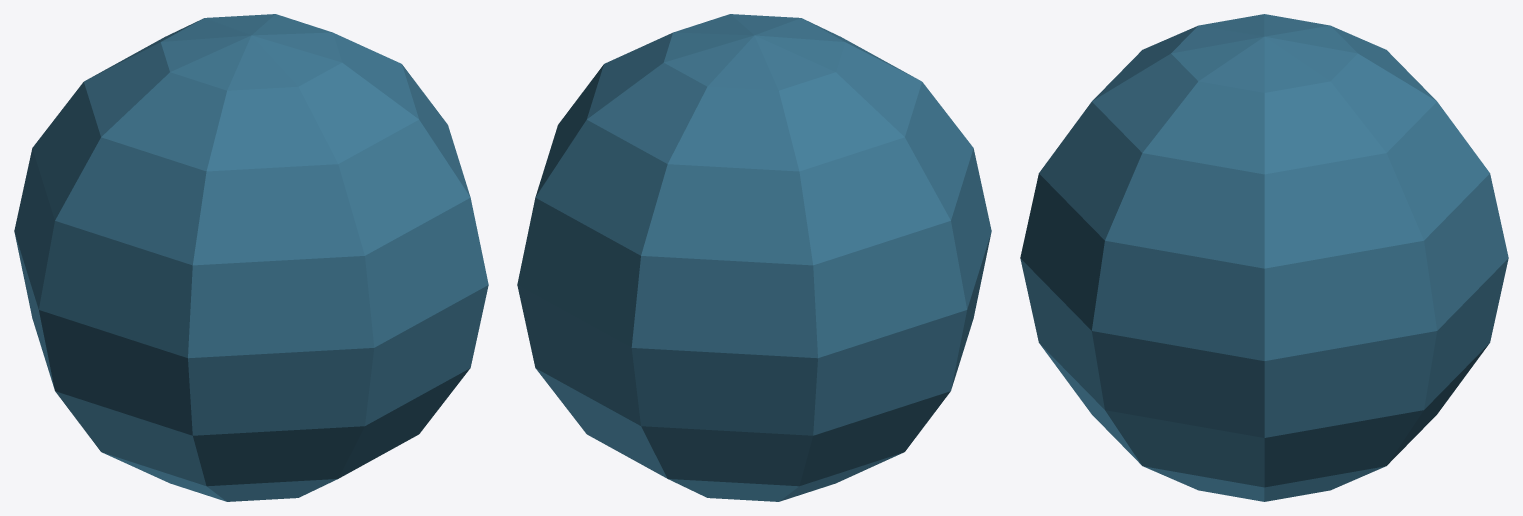
File: GearOrbGlass.glb
3 renders of one model, left to right at view 1: azimuth 30°, elevation 25°; view 2: azimuth 150°, elevation 25°; view 3: azimuth 270°, elevation 25°, orthographic.
Visible parts, largest first — view 1: CryoOrbGear.001; view 2: CryoOrbGear.001; view 3: CryoOrbGear.001.
Part boxes in pixels (left/top/right/bottom): CryoOrbGear.001: left=14, top=14, right=488, bottom=501; CryoOrbGear.001: left=517, top=14, right=991, bottom=501; CryoOrbGear.001: left=1020, top=14, right=1508, bottom=501.
Bounding box in the file's own units: 0.4 × 0.4 × 0.4.
Materials: 2 (2 with a texture image).
